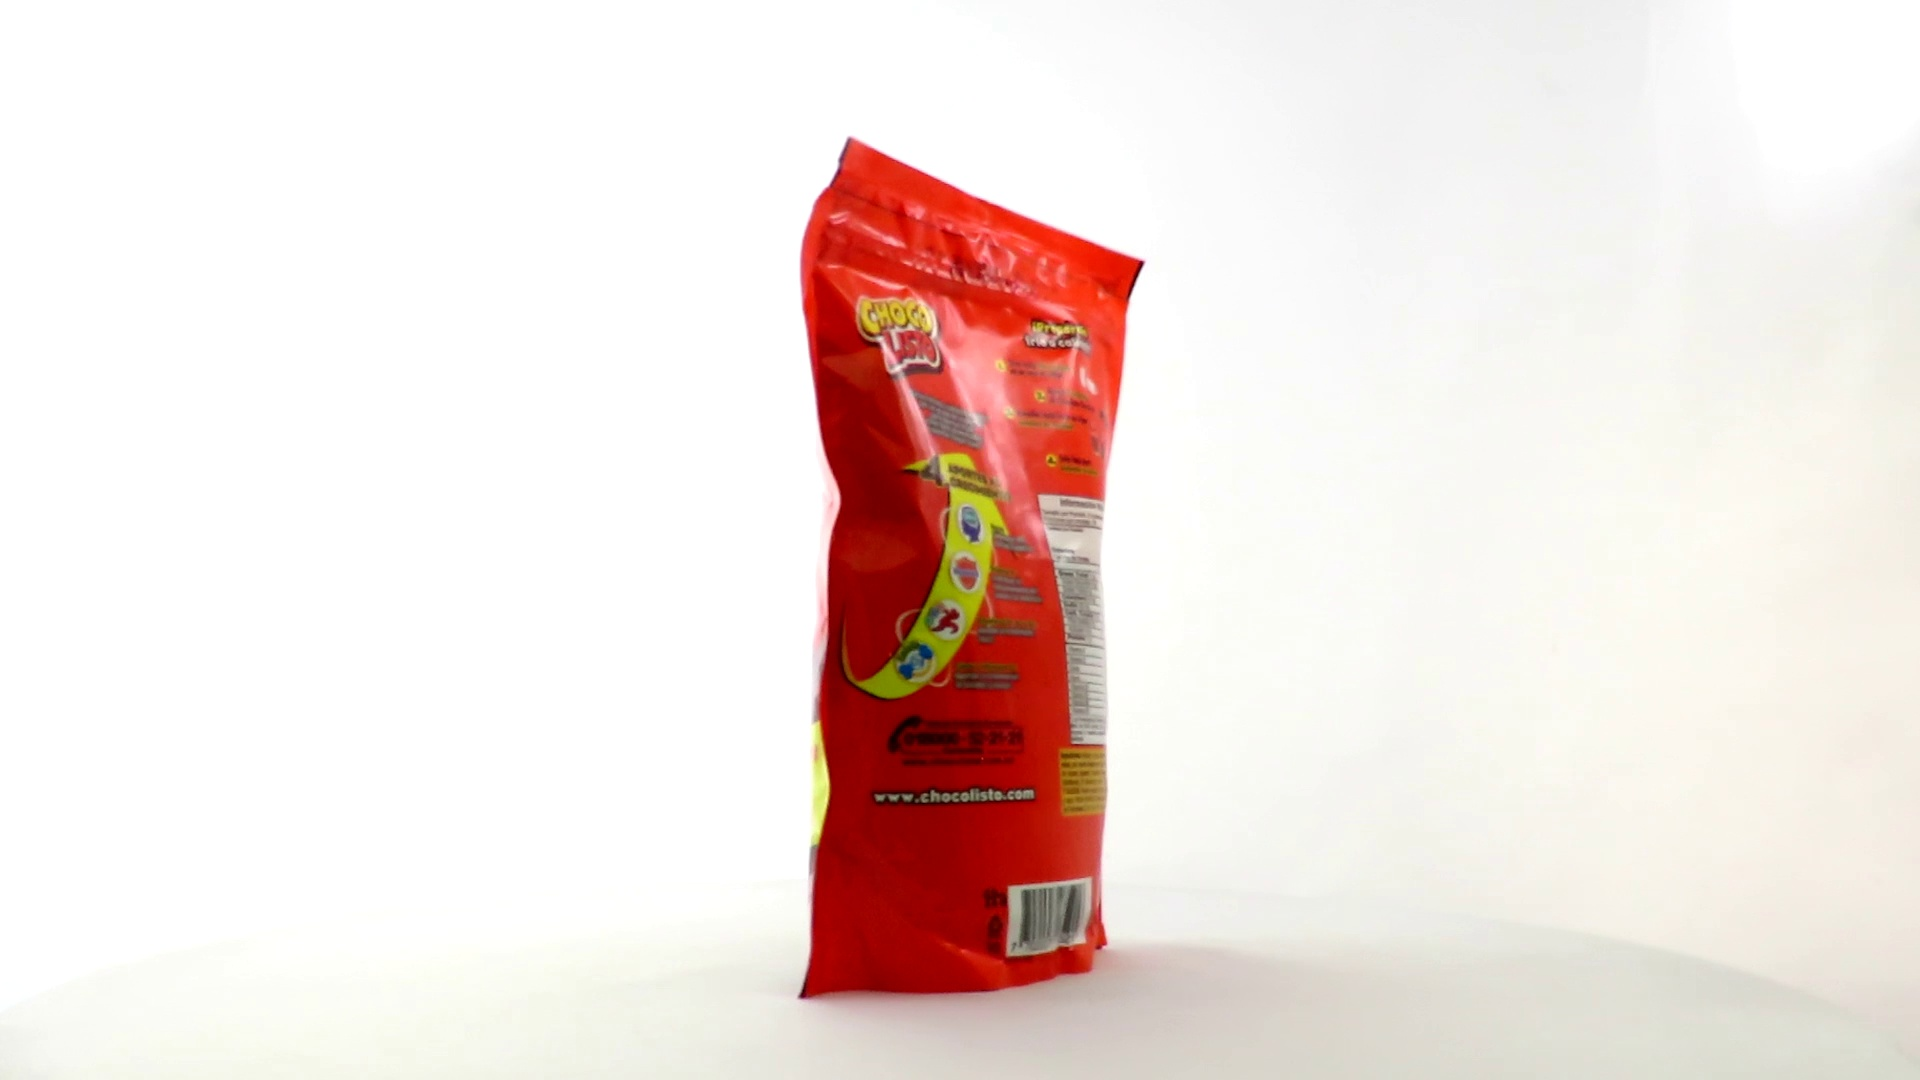COL0170103DYP36000: (793, 131, 1150, 1006)
